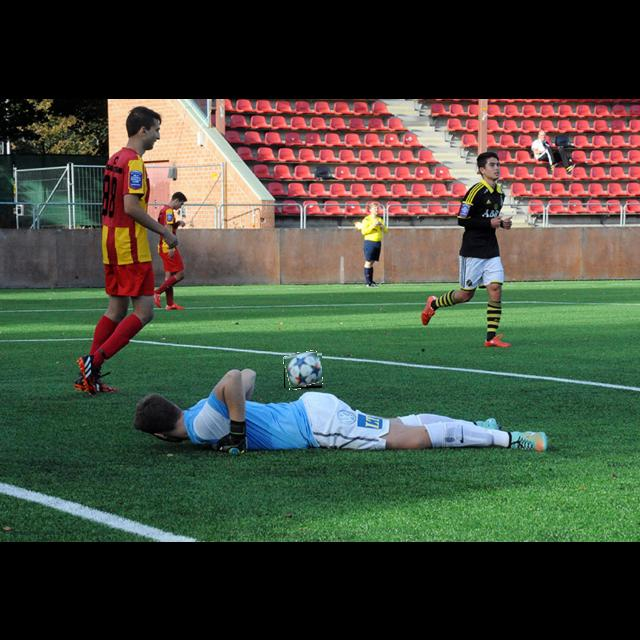Football: (284, 352, 322, 388)
